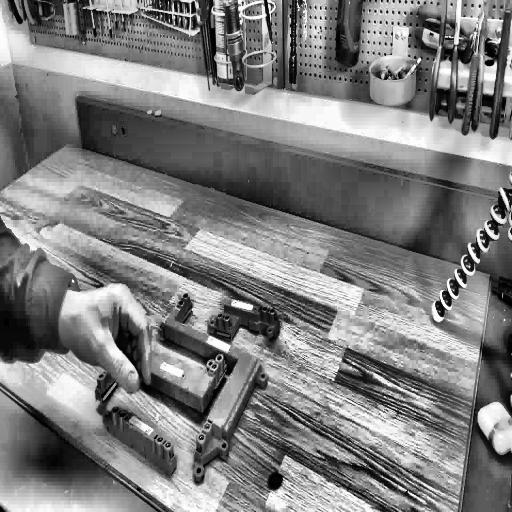busbar: (90, 277, 284, 486)
